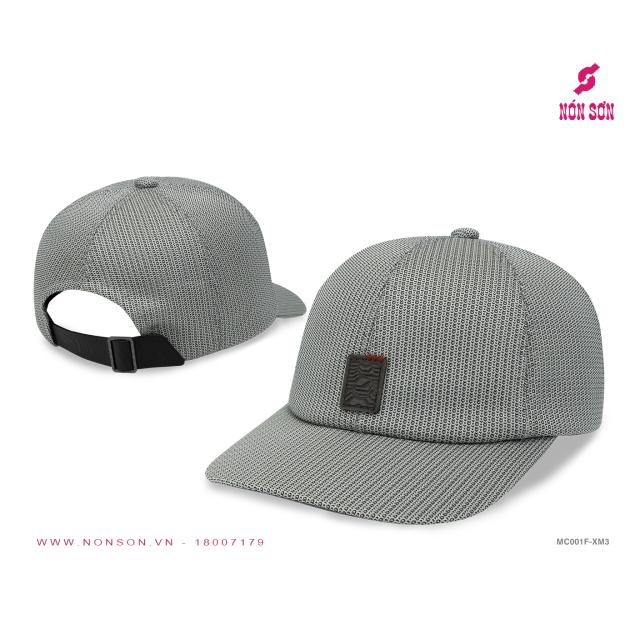Cap: (196, 219, 611, 534), (28, 170, 306, 376)
